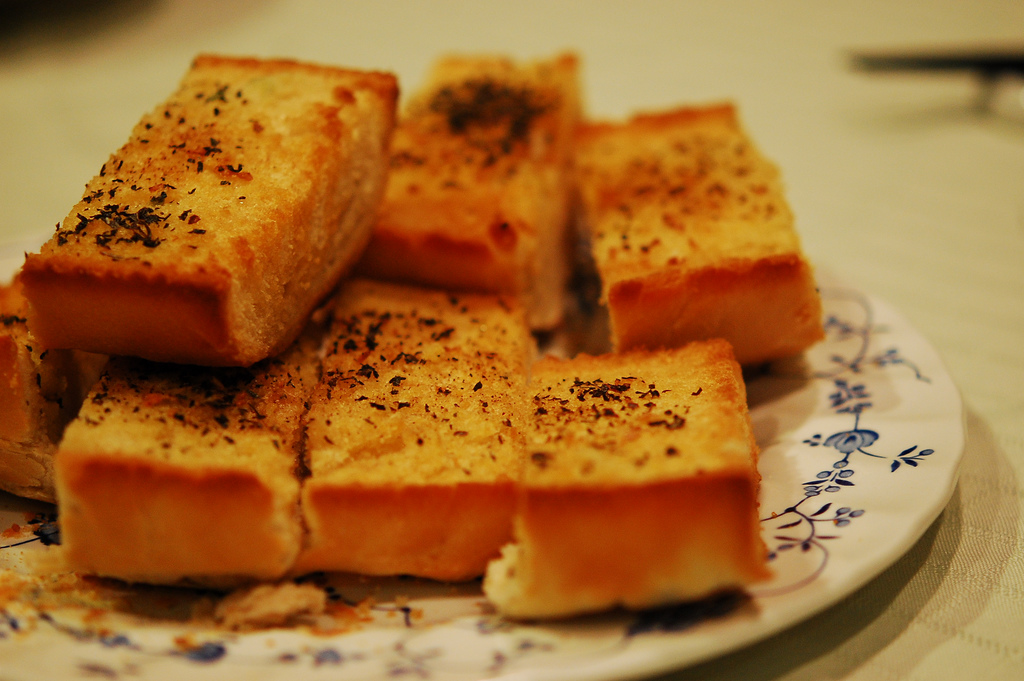slice of bread: (178, 63, 729, 540)
